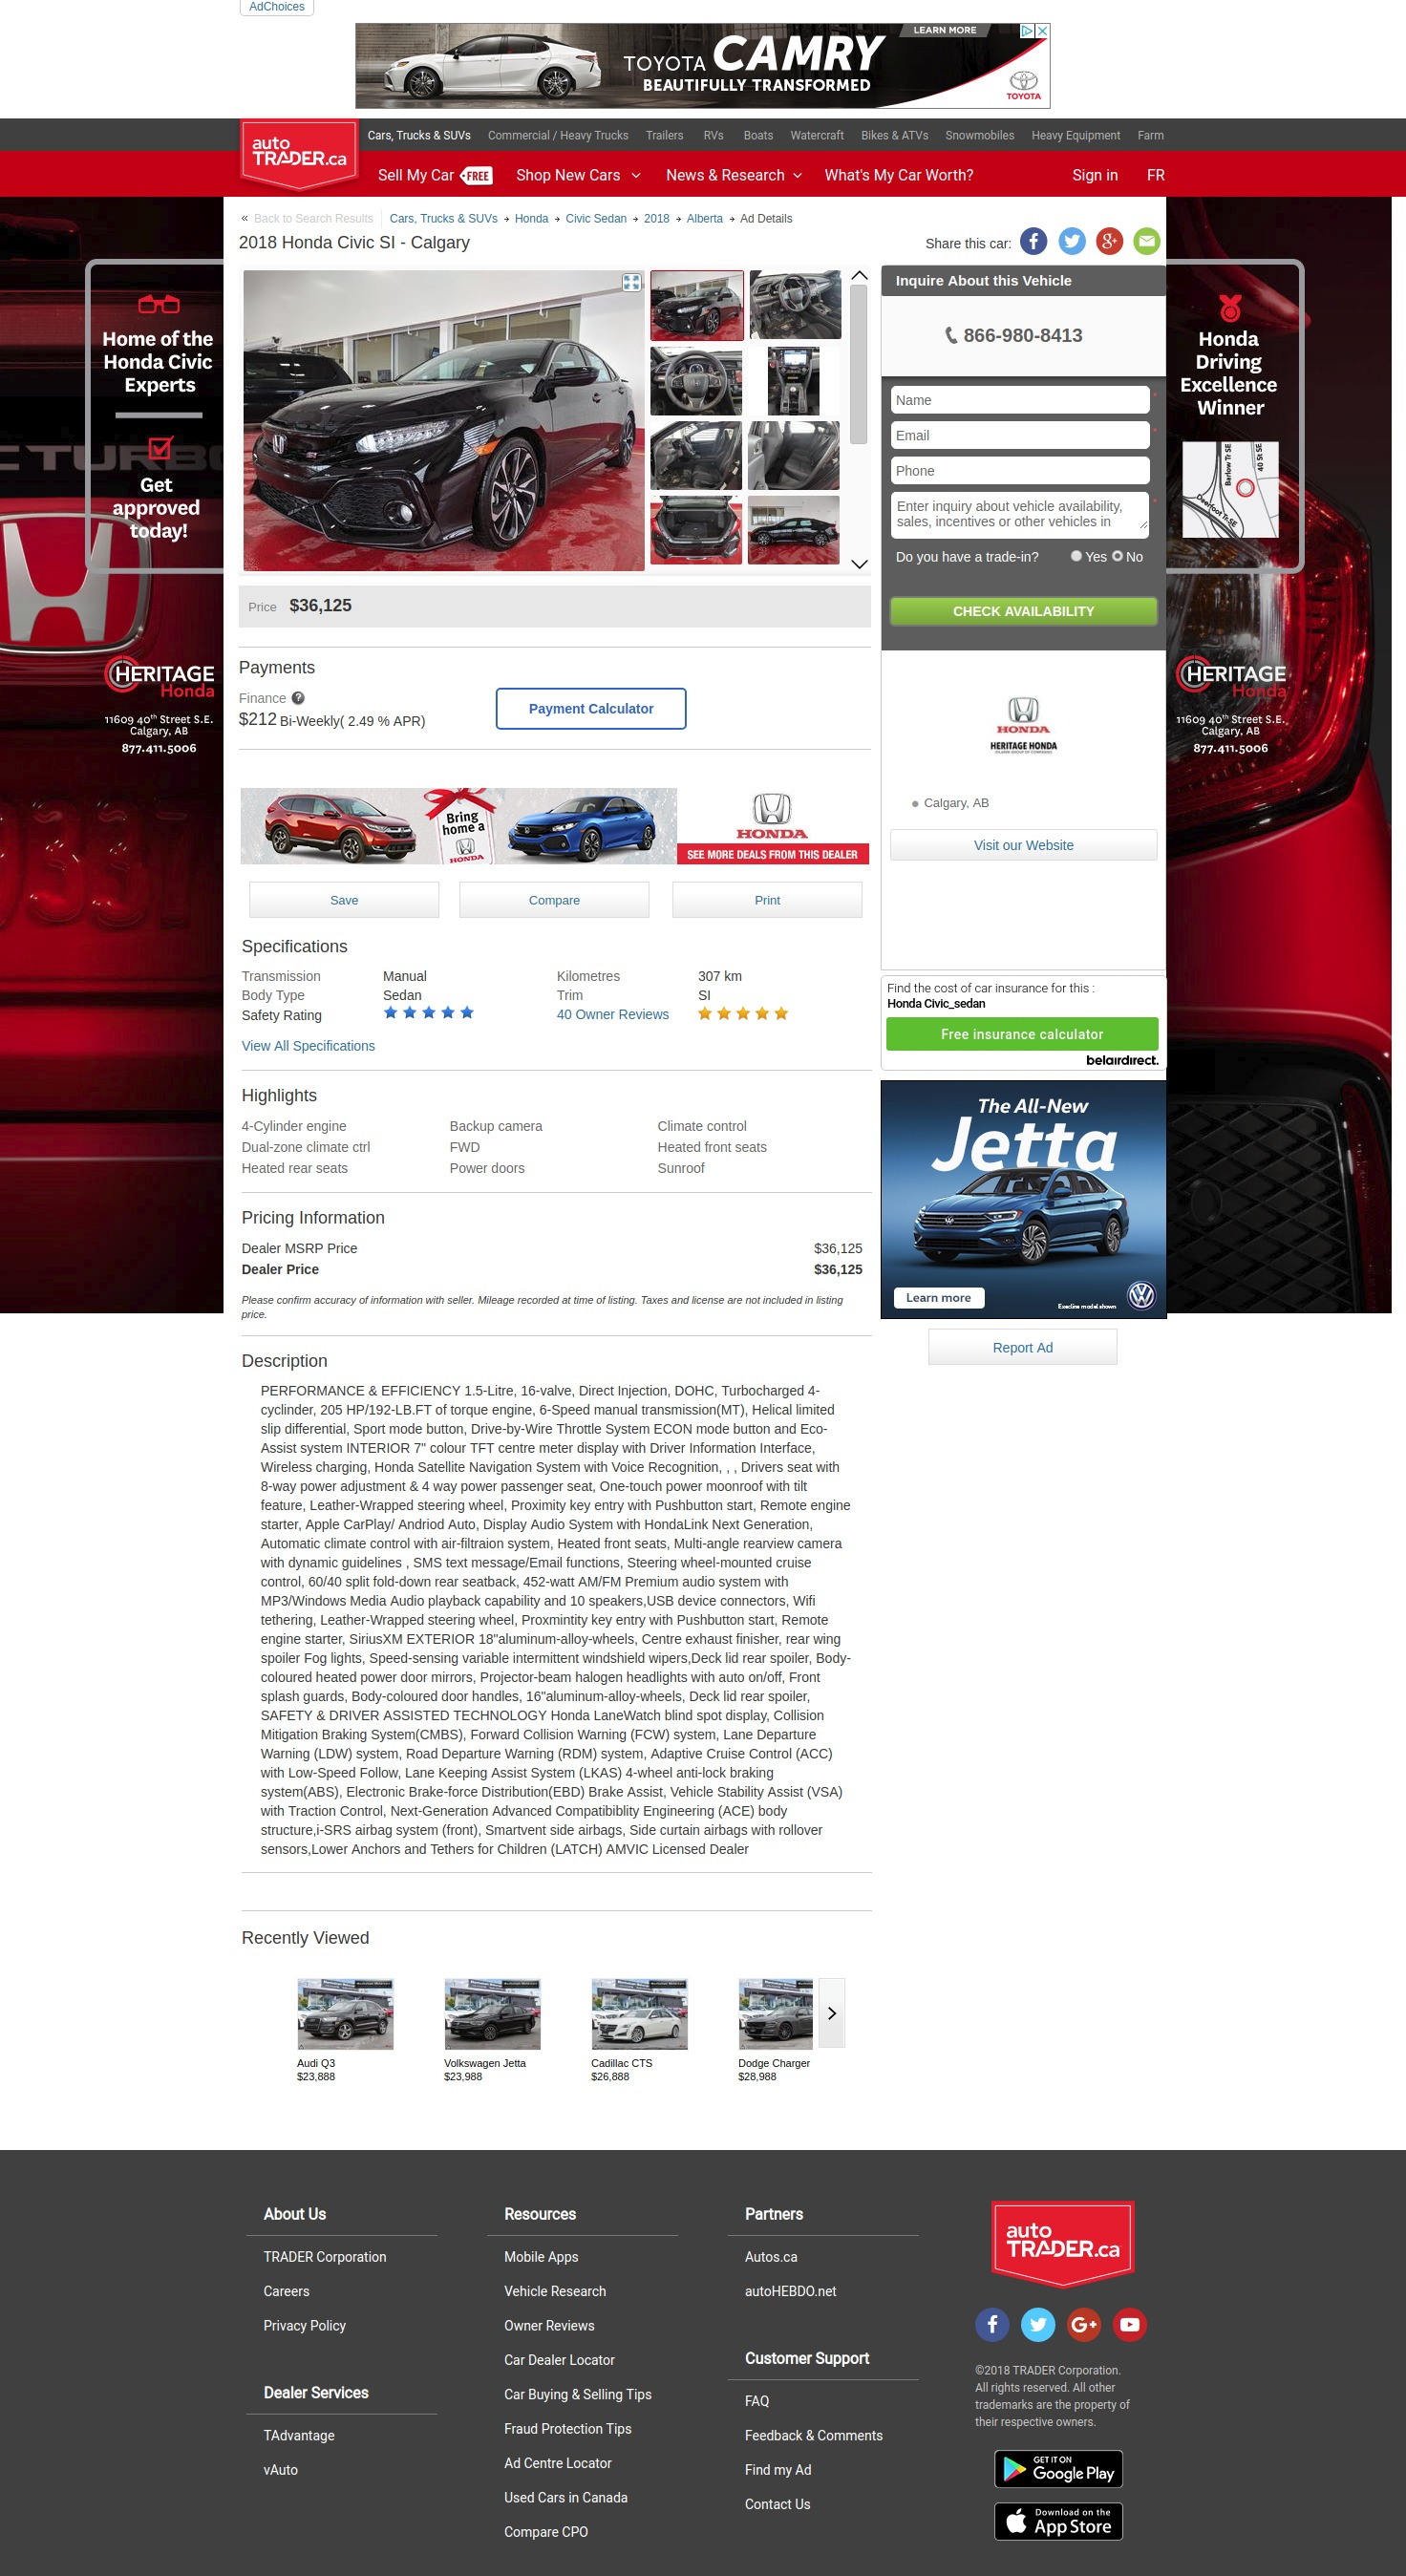car: (850, 554, 871, 571)
